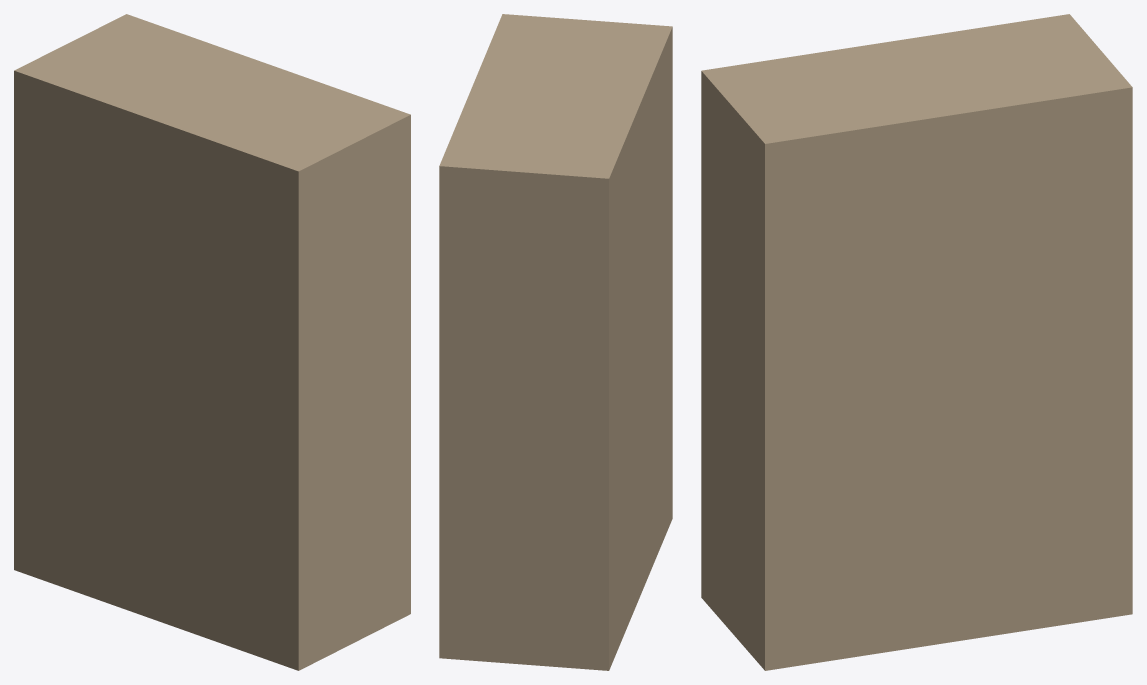
Rendered from bld_107610428.dae.
3 renders of one model, left to right at view 1: azimuth 30°, elevation 25°; view 2: azimuth 150°, elevation 25°; view 3: azimuth 270°, elevation 25°, orthographic. The views are drawn at different scales.
Parts seen in each view (by area): view 1: bld_107610428; view 2: bld_107610428; view 3: bld_107610428.
Boxes of the visible parts, left/top/right/bottom form: bld_107610428: left=14, top=14, right=410, bottom=670; bld_107610428: left=439, top=14, right=672, bottom=670; bld_107610428: left=701, top=14, right=1132, bottom=670.
Size of the model in its own units: 4.23 by 5.93 by 8.
